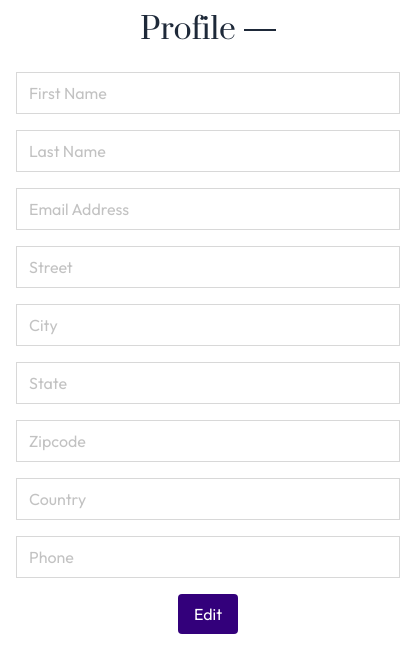
it: click on edit btn: inputs are not disable
Click the button with test id "editProfile": (208, 614) [178, 594, 238, 634]
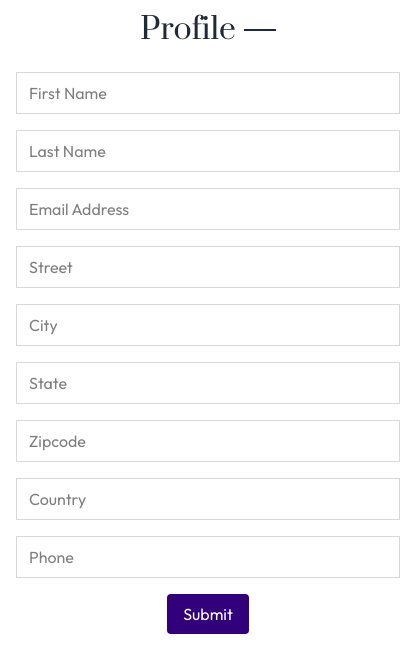
Expected: the field with placeholder "First Name" is enabled, [16, 72, 400, 114]
Expected: the field with placeholder "Last Name" is enabled, [16, 130, 400, 172]
Expected: the field with placeholder "Email Address" is enabled, [16, 188, 400, 230]
